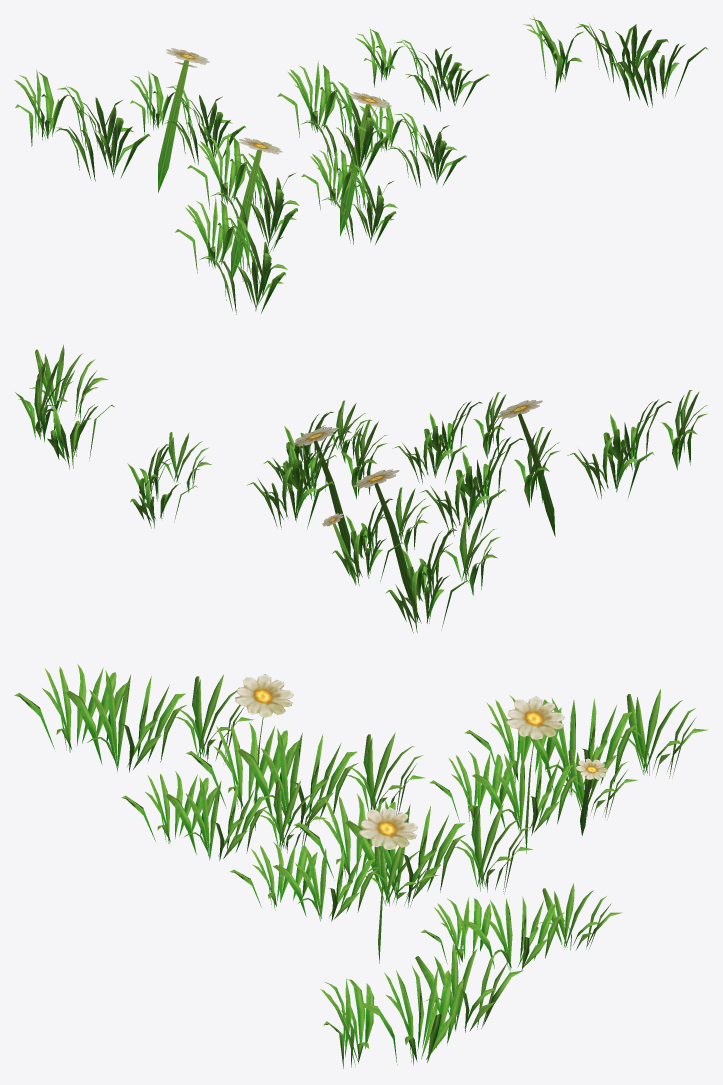
File: huahua_10.fbx
3 renders of one model, top to bottom at view 1: azimuth 30°, elevation 25°; view 2: azimuth 150°, elevation 25°; view 3: azimuth 270°, elevation 25°, orthographic. The views are drawn at different scales.
Visible parts, largest first — view 1: polySurface5574; view 2: polySurface5574; view 3: polySurface5574.
Boxes of the visible parts, <box> form: polySurface5574: <box>14,15,708,314</box>; polySurface5574: <box>15,344,707,632</box>; polySurface5574: <box>14,664,707,1068</box>.
Bounding box in the file's own units: 1065 × 281 × 874.
